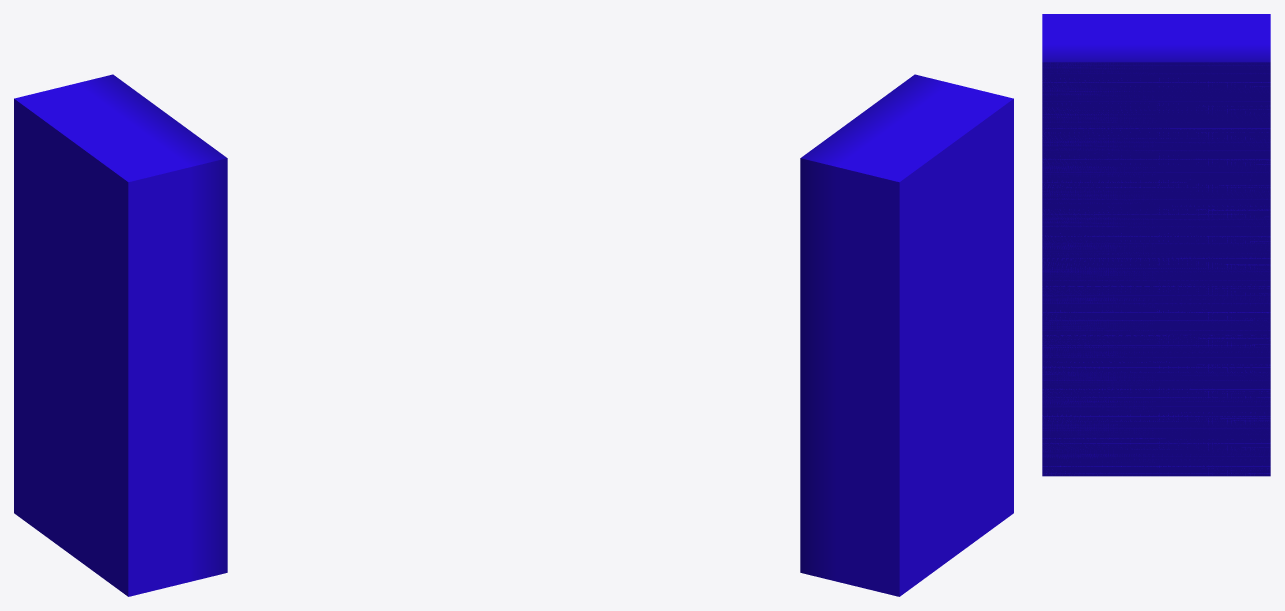
The model's file is tier1_piece_12.obj.
3 renders of one model, left to right at view 1: azimuth 30°, elevation 25°; view 2: azimuth 150°, elevation 25°; view 3: azimuth 270°, elevation 25°, orthographic.
Parts seen in each view (by area): view 1: tier1_piece_12; view 2: tier1_piece_12; view 3: tier1_piece_12.
Part boxes in pixels (left/top/right/bottom): tier1_piece_12: left=14, top=74, right=227, bottom=596; tier1_piece_12: left=800, top=74, right=1013, bottom=596; tier1_piece_12: left=1042, top=14, right=1270, bottom=476.
Bounding box in the file's own units: 0.9375 × 1 × 0.5.
